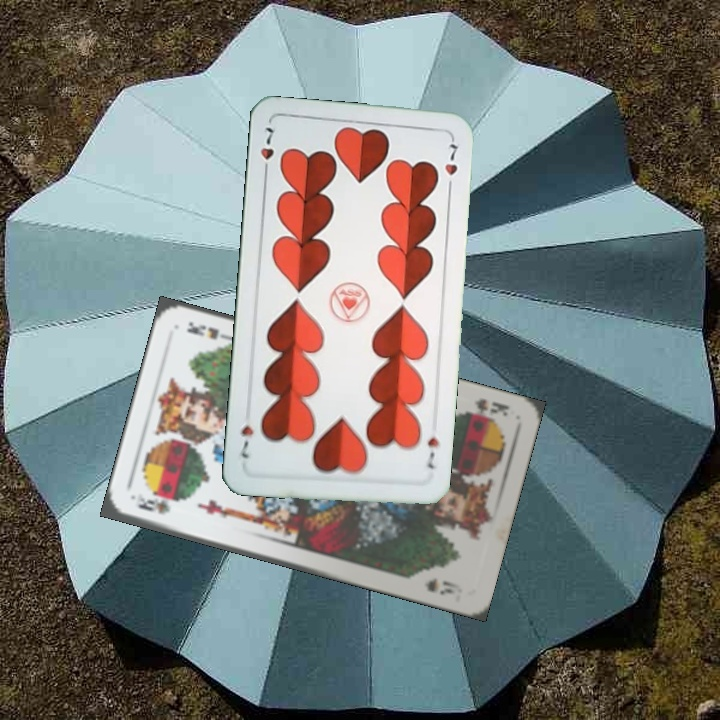H7: (256, 123, 276, 180), (422, 433, 442, 472)
SK: (461, 394, 512, 423), (132, 490, 173, 517)
